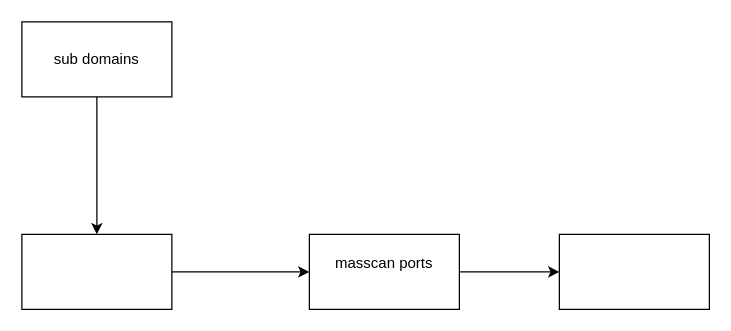
Some shapes in this 731 by 331 pixel diagram are drawn without their labels. The shapes that lost their labels are listed below. From the top down, each one's centre as x and y in pixels, then its label:
the point at 96,271: ips
the point at 633,271: nmap services info
